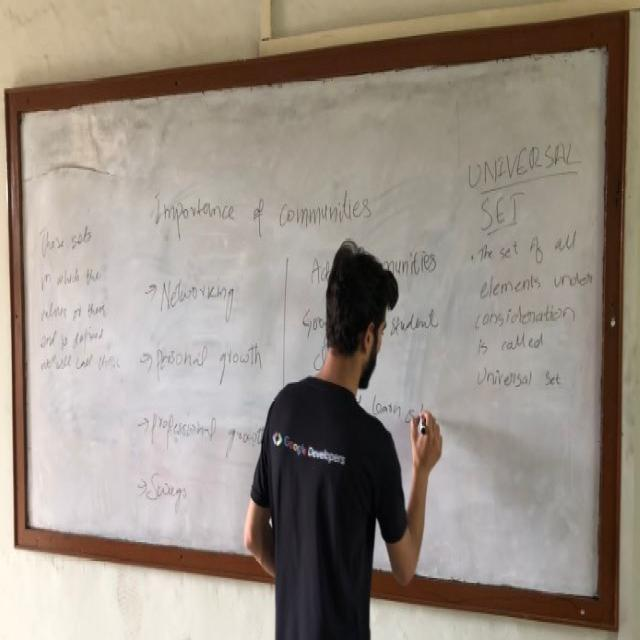Instructor: (275, 240, 412, 628)
White-board: (17, 38, 620, 615)
